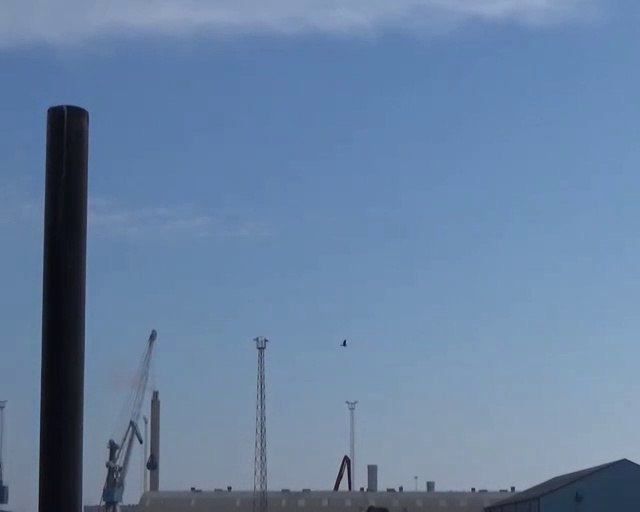BIRD: (341, 338, 349, 348)
